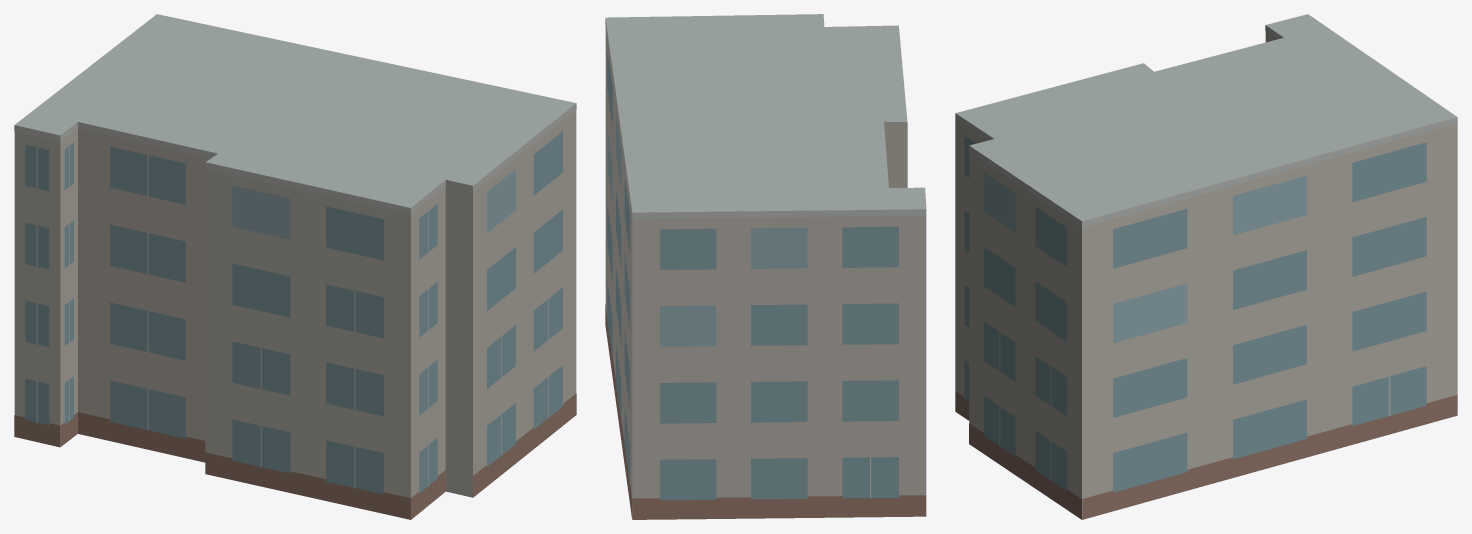
Rendered from survey-upis-32762790.glb.
3 views of the same model, side by side, from view 1: azimuth 30°, elevation 25°; view 2: azimuth 150°, elevation 25°; view 3: azimuth 270°, elevation 25° (orthographic). The views are drawn at different scales.
Parts seen in each view (by area): view 1: survey-upis-32762790.tmp; view 2: survey-upis-32762790.tmp; view 3: survey-upis-32762790.tmp.
Part boxes in pixels (left/top/right/bottom): survey-upis-32762790.tmp: left=14, top=14, right=576, bottom=519; survey-upis-32762790.tmp: left=605, top=14, right=926, bottom=519; survey-upis-32762790.tmp: left=955, top=14, right=1457, bottom=519.
Bounding box in the file's own units: 17.24 × 11.57 × 17.65.
